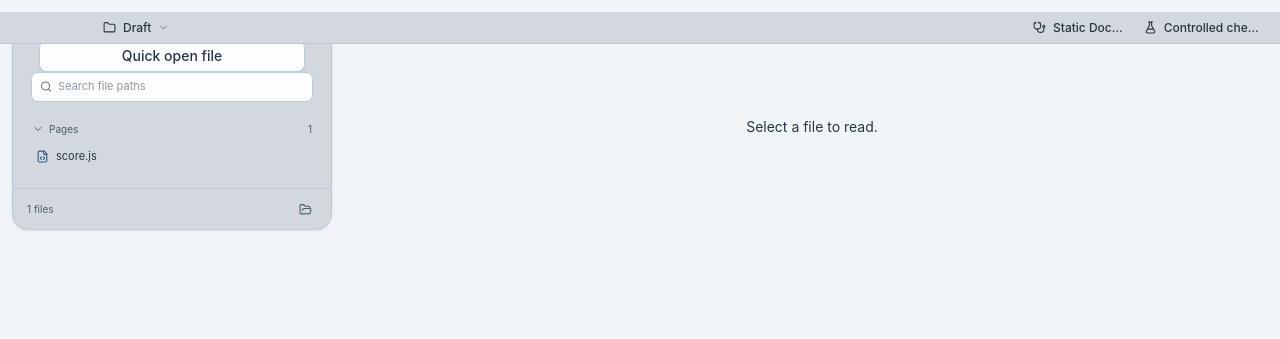
Test: creation discussion reading (#166) › keeps the readonly file reader available without an assistant for bundle projects
The width and height of the screenshot is (1280, 339).
Step 1. Click the button "score.js" → (76, 156), box [27,142,317,171]
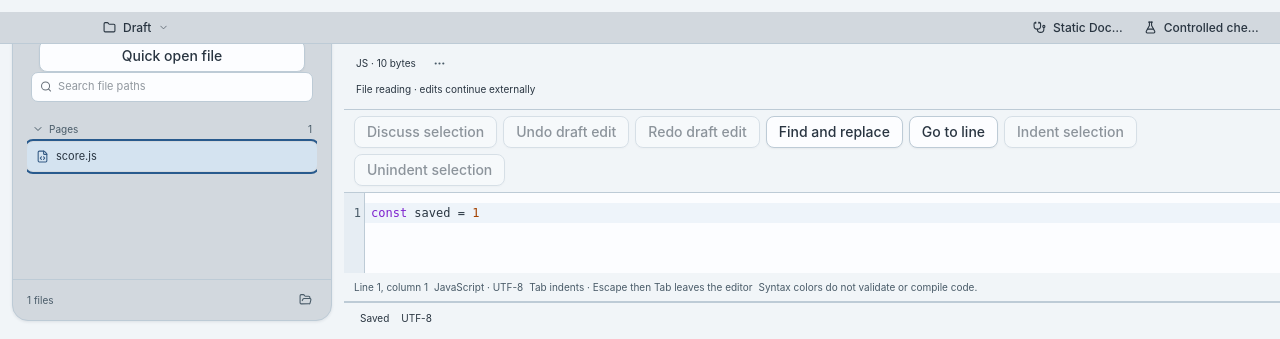
Result: the field named "score.js" reads "const saved = 1" at [365,202,1279,223]
